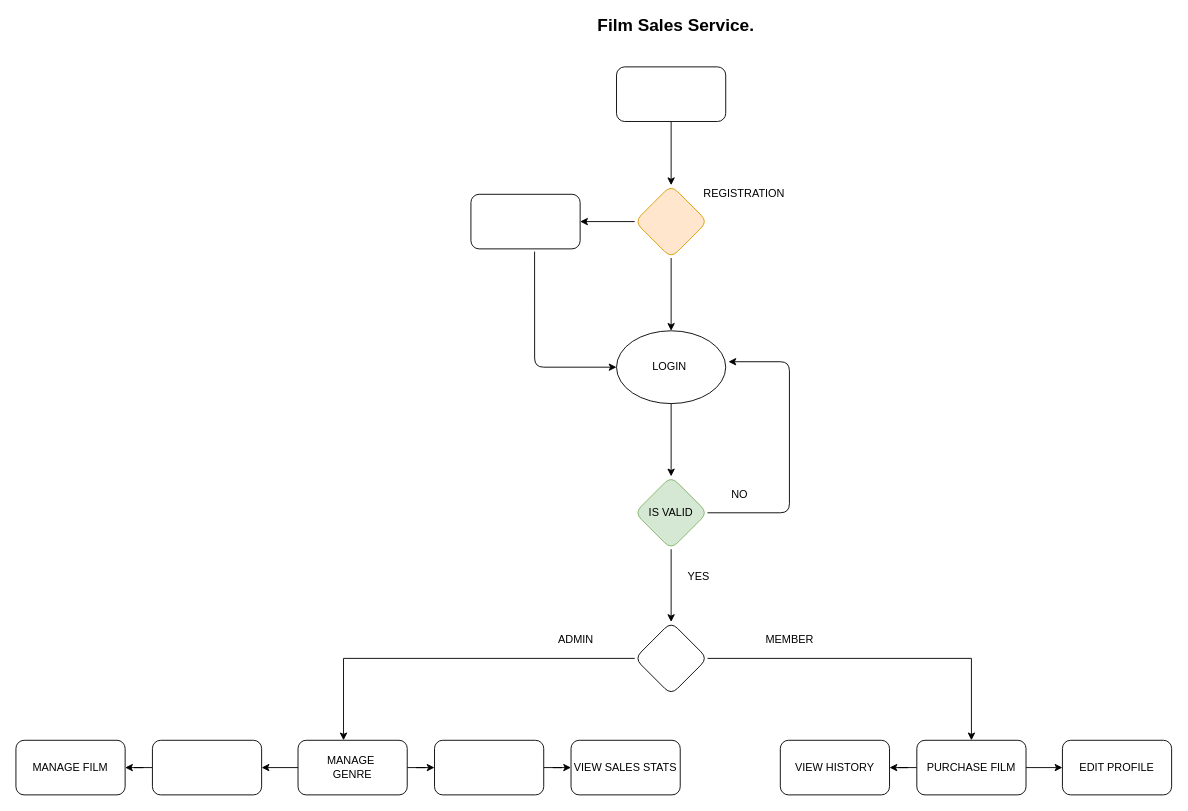
Image size: 1188x811. Some labels were removed from this diagram. Here are the shapes that lost their labels. From the top down, the centre of each, then its label:
[671,93]: USER
[525,221]: REGISTER
[207,767]: MANAGE CUSTOMER
[489,767]: MANAGE PURCHASES
